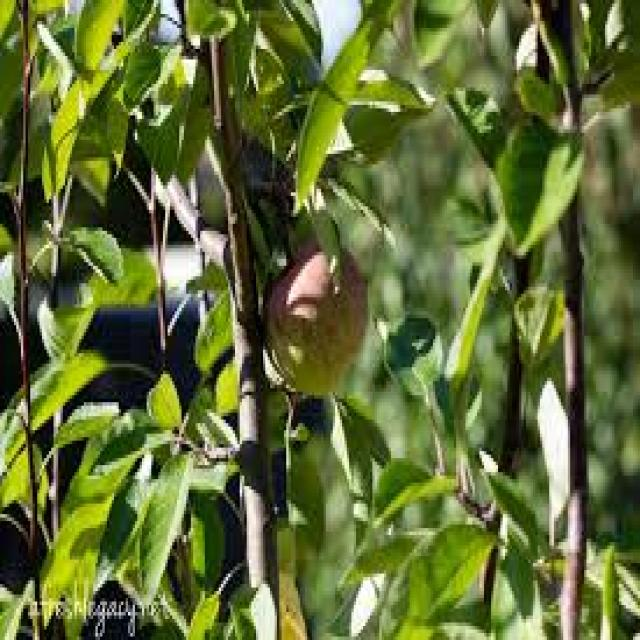Organik: (264, 228, 359, 379)
